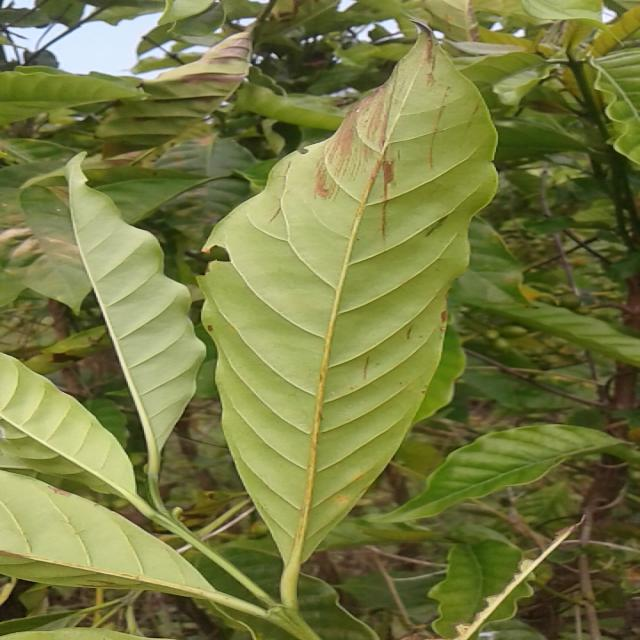Enfermedad-Roya: (193, 26, 500, 612)
